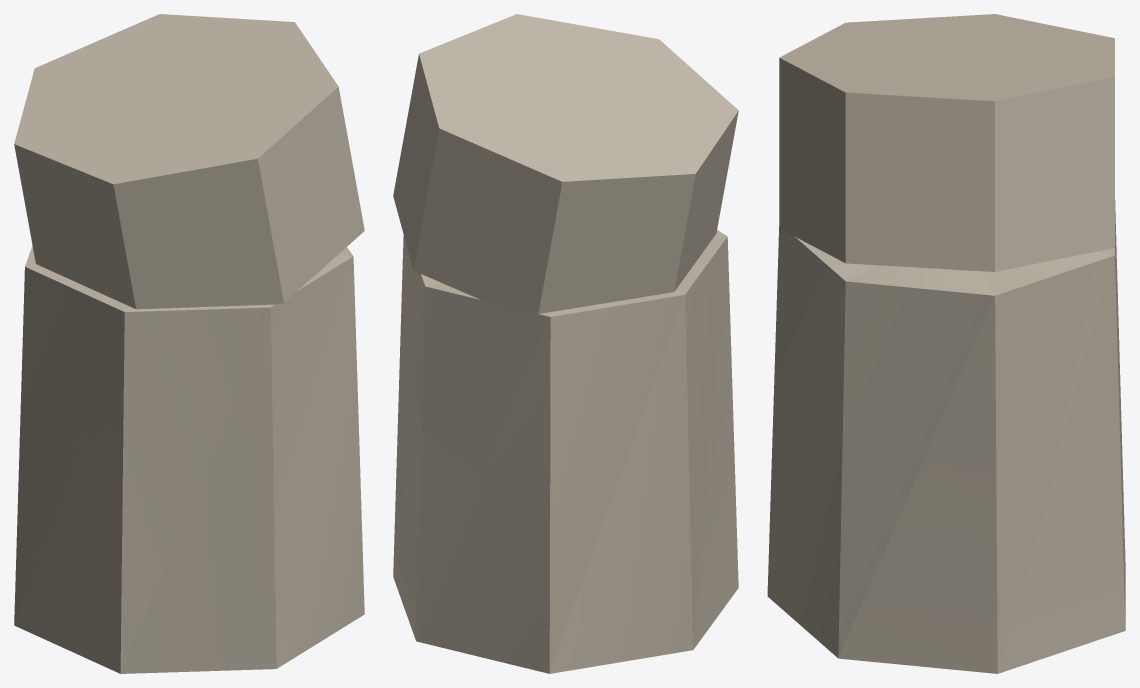
3 views of the same model, side by side, from view 1: azimuth 30°, elevation 25°; view 2: azimuth 150°, elevation 25°; view 3: azimuth 270°, elevation 25° (orthographic). The views are drawn at different scales.
Parts seen in each view (by area): view 1: landmark.ruined_tower; view 2: landmark.ruined_tower; view 3: landmark.ruined_tower.
Part boxes in pixels (<box>): landmark.ruined_tower: <box>14,14,364,673</box>; landmark.ruined_tower: <box>393,14,738,673</box>; landmark.ruined_tower: <box>767,14,1125,673</box>.
Bounding box in the file's own units: 6.29 × 10.5 × 6.08.
